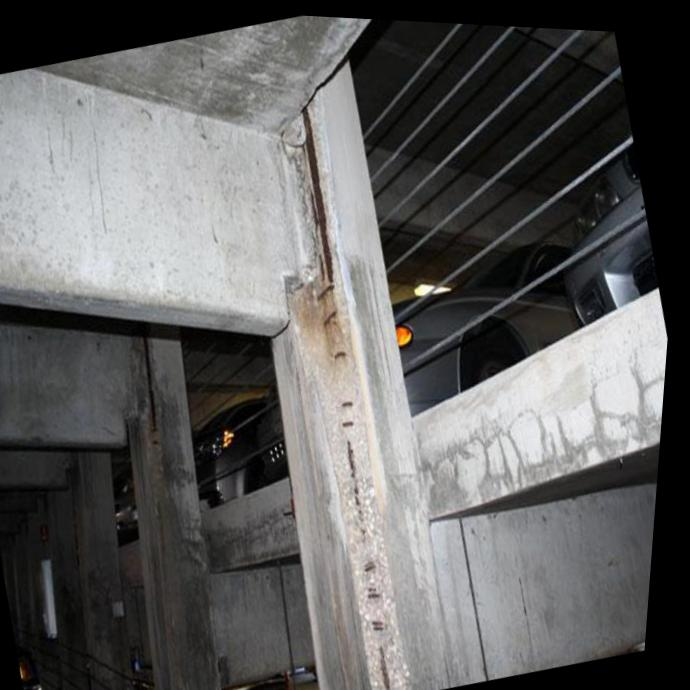crack: (276, 286, 296, 334)
damage: (281, 76, 427, 690), (136, 336, 169, 446)
